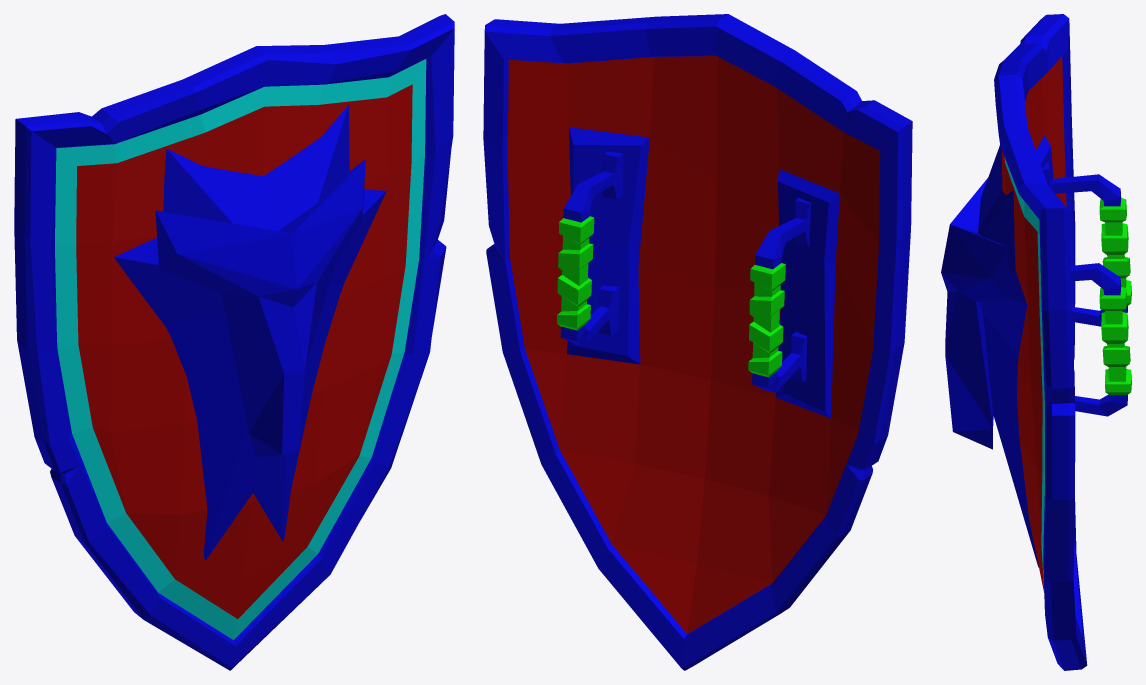
Rendered from Shield_Legendary_Wolf.fbx.
3 views of the same model, side by side, from view 1: azimuth 30°, elevation 25°; view 2: azimuth 150°, elevation 25°; view 3: azimuth 270°, elevation 25° (orthographic). The views are drawn at different scales.
Visible parts, largest first — view 1: SM_Wep_Shield_04; view 2: SM_Wep_Shield_04; view 3: SM_Wep_Shield_04.
Part boxes in pixels (x1,y1,x2,y2): SM_Wep_Shield_04: [14, 14, 454, 670]; SM_Wep_Shield_04: [483, 14, 912, 670]; SM_Wep_Shield_04: [941, 14, 1131, 670].
Size of the model in its own units: 66.84 by 95.69 by 27.79.
